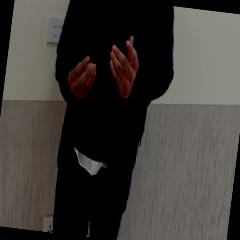not-gloved: (105, 33, 141, 100), (65, 53, 98, 102)
